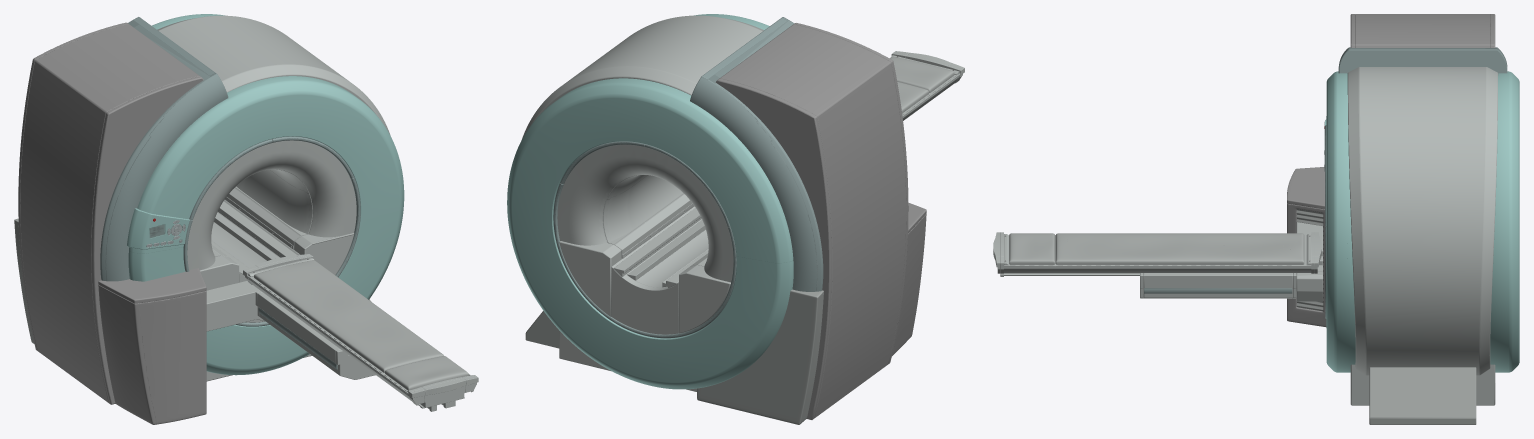
File: mri_main.fbx
3 renders of one model, left to right at view 1: azimuth 30°, elevation 25°; view 2: azimuth 150°, elevation 25°; view 3: azimuth 270°, elevation 25°, orthographic. The views are drawn at different scales.
Visible parts, largest first — view 1: mri_main, bed, bed_base; view 2: mri_main, bed; view 3: mri_main, bed, bed_base.
Part boxes in pixels (left/top/right/bottom): mri_main: left=14, top=14, right=404, bottom=424; bed: left=243, top=254, right=478, bottom=411; bed_base: left=206, top=280, right=375, bottom=379; mri_main: left=507, top=14, right=926, bottom=424; bed: left=889, top=51, right=964, bottom=120; mri_main: left=1287, top=14, right=1519, bottom=424; bed: left=993, top=232, right=1321, bottom=276; bed_base: left=1140, top=222, right=1322, bottom=301.
Bounding box in the file's own units: 253 × 239 × 390.
3 materials, 3 textured.
